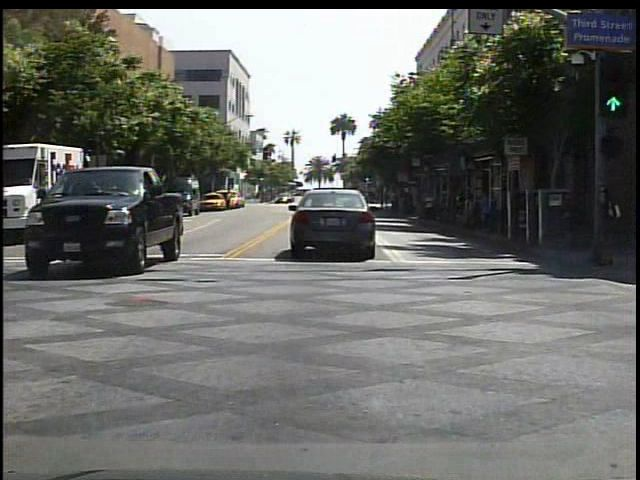person: (599, 171, 630, 272), (421, 188, 440, 223)
